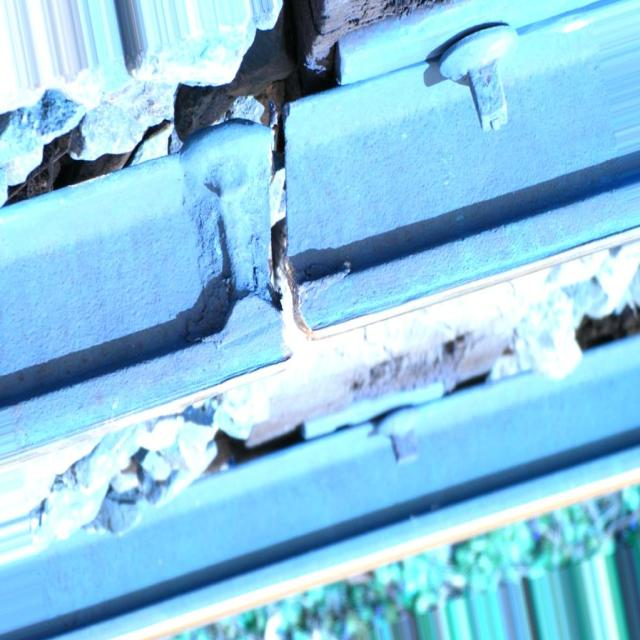crack: (237, 76, 319, 374)
